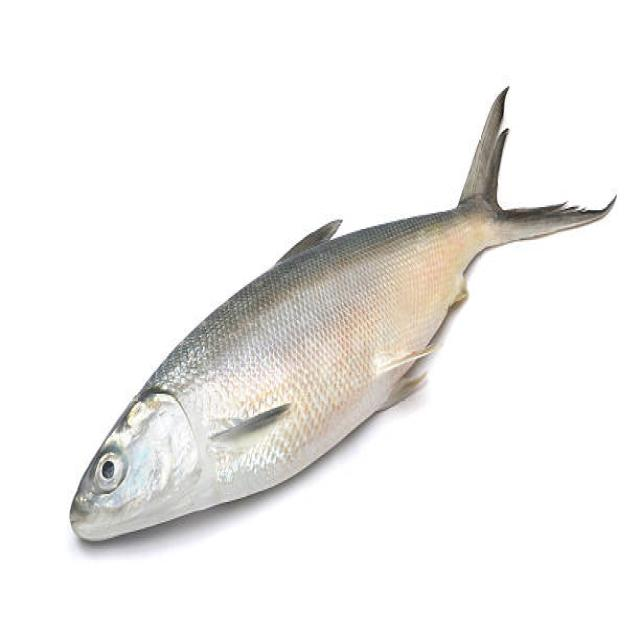Bangus: (22, 38, 631, 563)
